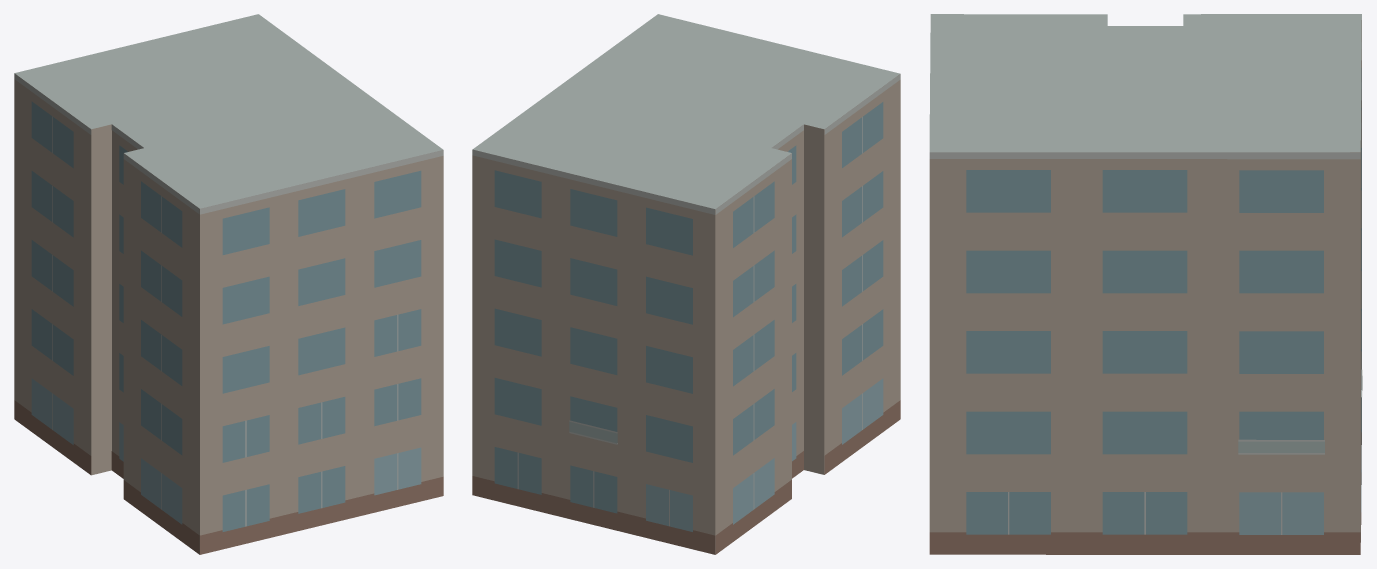
The model's file is survey-upis-32610842.glb.
The picture shows the model from 3 angles, left to right: view 1: azimuth 30°, elevation 25°; view 2: azimuth 150°, elevation 25°; view 3: azimuth 270°, elevation 25°; orthographic projection. The views are drawn at different scales.
Parts seen in each view (by area): view 1: survey-upis-32610842.tmp; view 2: survey-upis-32610842.tmp; view 3: survey-upis-32610842.tmp.
Boxes of the visible parts, x1,y1,x2,y2 form: survey-upis-32610842.tmp: (14, 14, 443, 554); survey-upis-32610842.tmp: (472, 14, 900, 554); survey-upis-32610842.tmp: (929, 14, 1362, 554).
Size of the model in its own units: 10.62 by 14.35 by 14.
